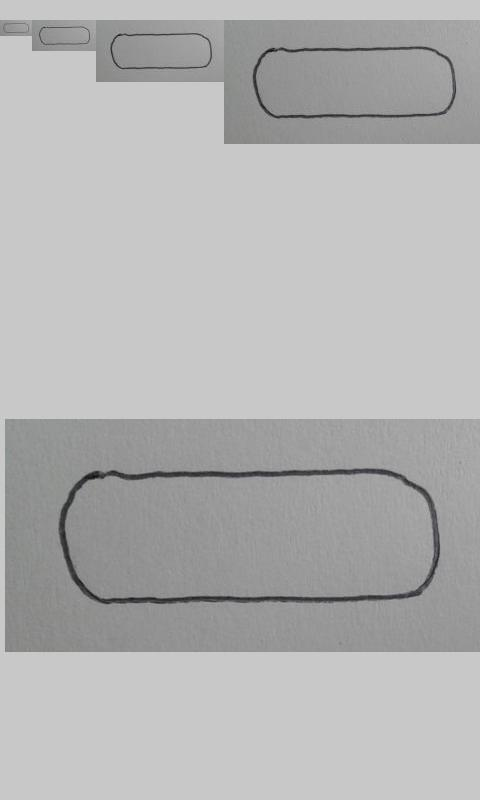chip: (58, 469, 440, 605), (253, 45, 457, 118), (110, 32, 213, 70), (39, 26, 91, 46), (3, 22, 30, 34)
